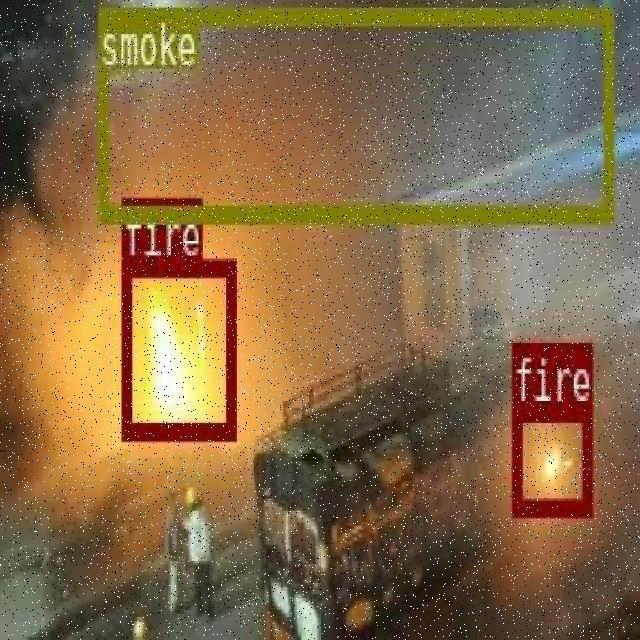Smoke: (96, 7, 612, 219)
